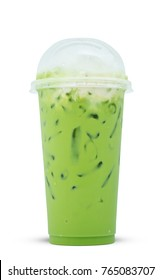plastic_glass: (25, 34, 141, 250)
